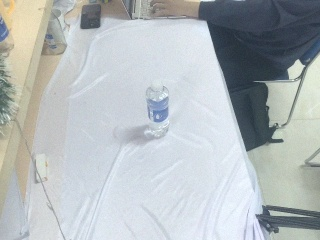bottle: (144, 80, 170, 139)
phone: (80, 4, 101, 29)
